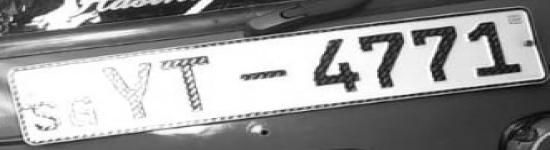-: (234, 64, 288, 87)
1: (463, 18, 527, 78)
4: (301, 36, 362, 95)
7: (409, 22, 461, 86), (359, 30, 407, 91)
G: (65, 97, 108, 129)
S: (28, 100, 64, 132)
T: (156, 54, 219, 116)
Y: (102, 62, 157, 126)
